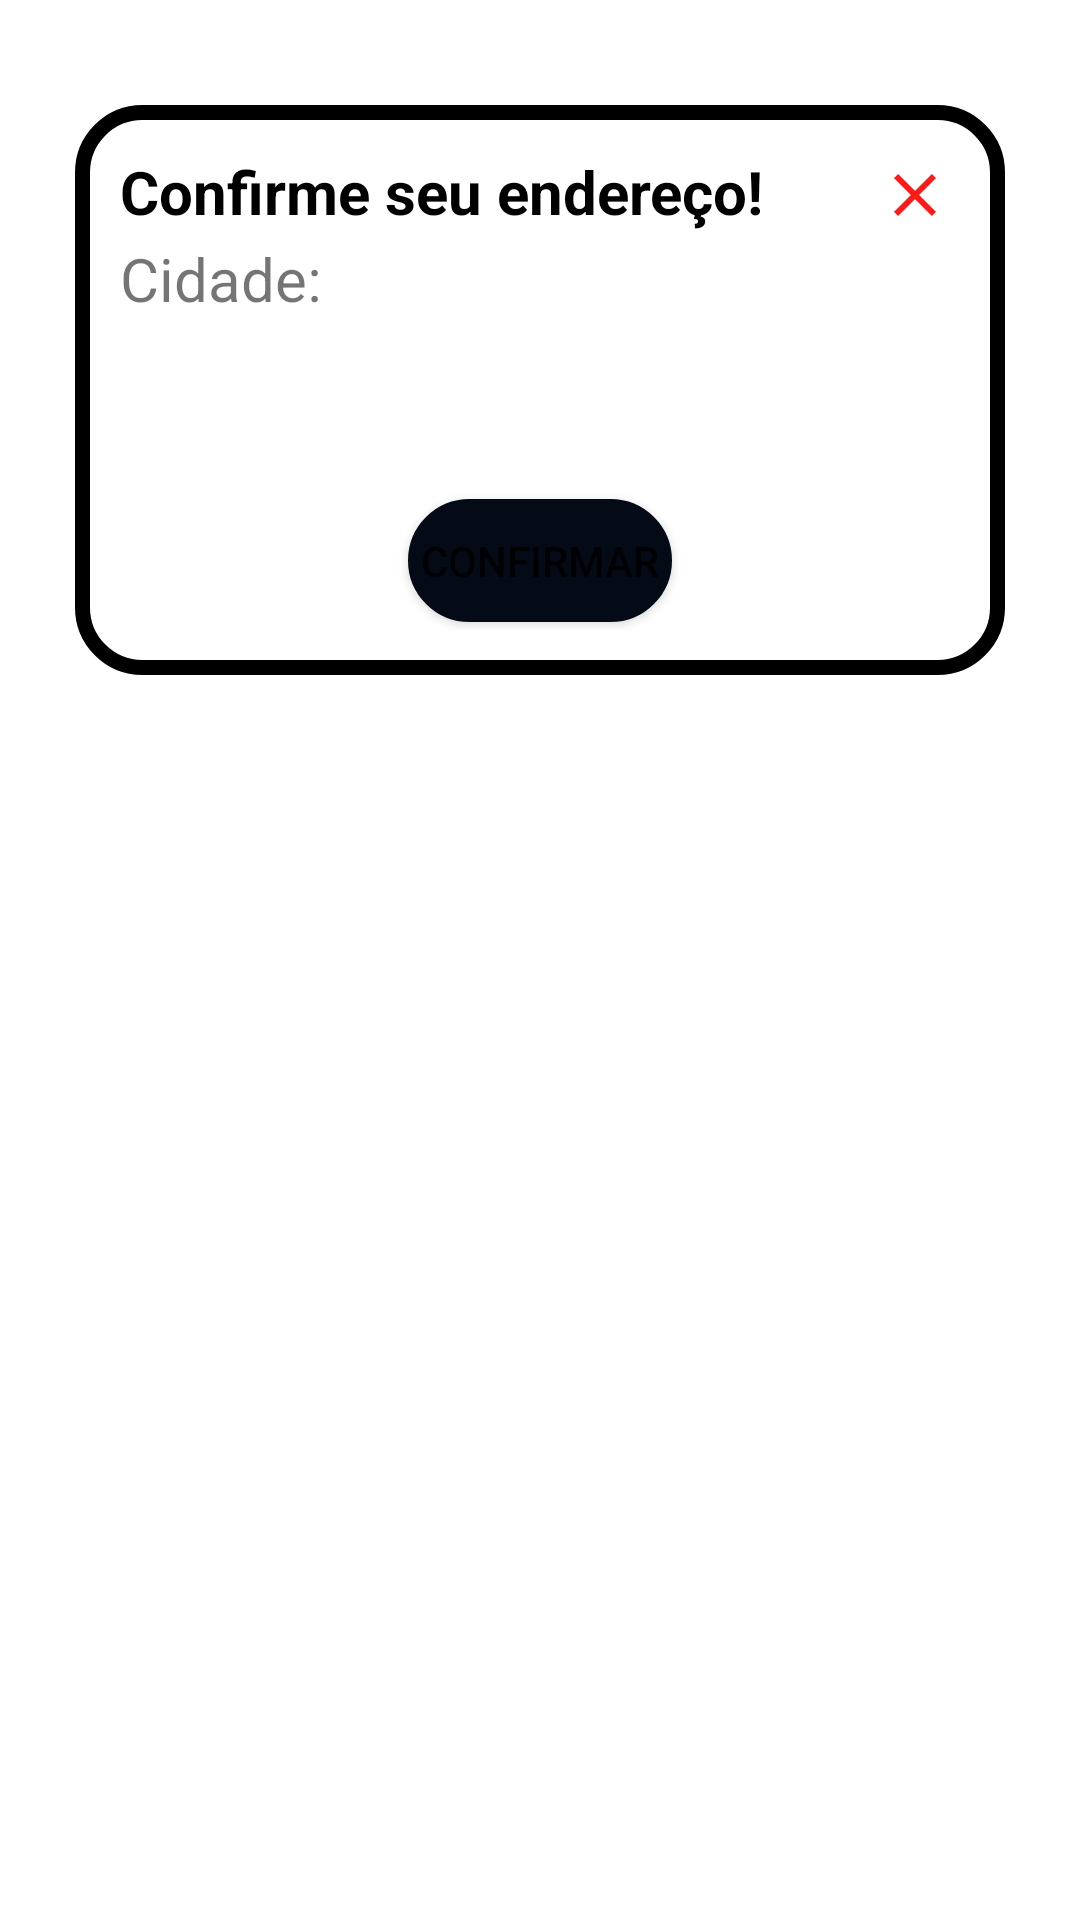

Icon click points for this 1080w x 1920h phone screenshot, format [x,y]:
close: [915,195]
